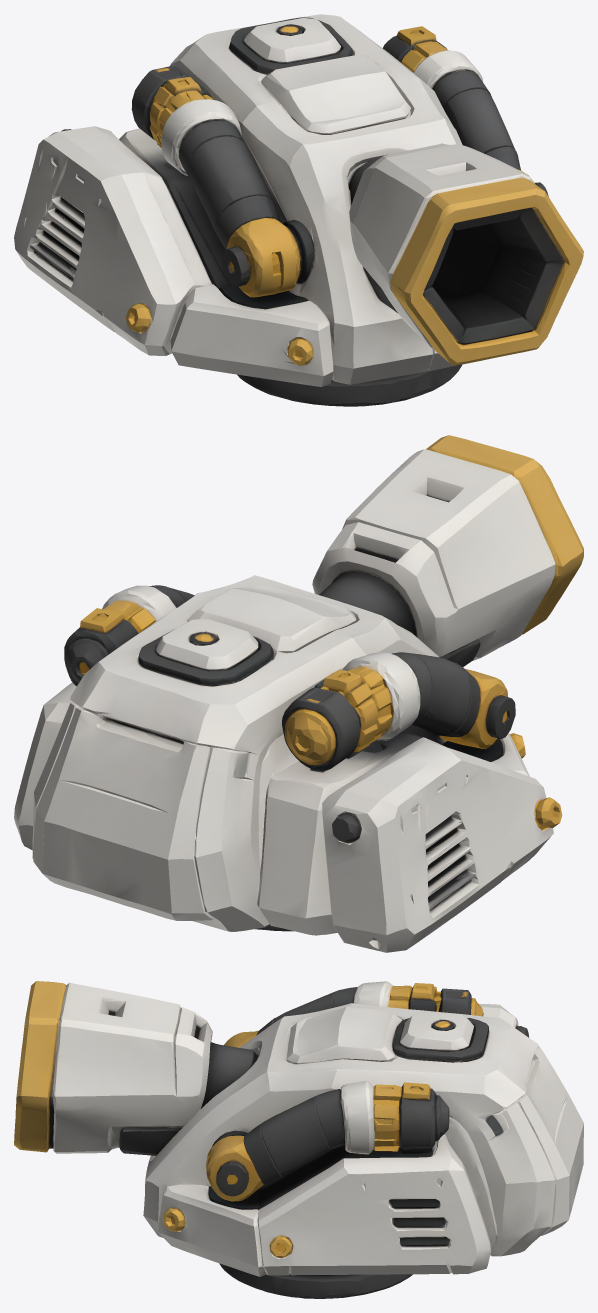
The model's file is scatter.glb.
The picture shows the model from 3 angles, top to bottom: view 1: azimuth 30°, elevation 25°; view 2: azimuth 150°, elevation 25°; view 3: azimuth 270°, elevation 25°; orthographic projection. The views are drawn at different scales.
Parts seen in each view (by area): view 1: model; view 2: model; view 3: model.
Part boxes in pixels (left/top/right/bottom): model: left=14, top=14, right=583, bottom=406; model: left=14, top=435, right=583, bottom=952; model: left=14, top=981, right=583, bottom=1298.
Bounding box in the file's own units: 1.39 × 0.9201 × 1.9.
Materials: 1 (1 with a texture image).
